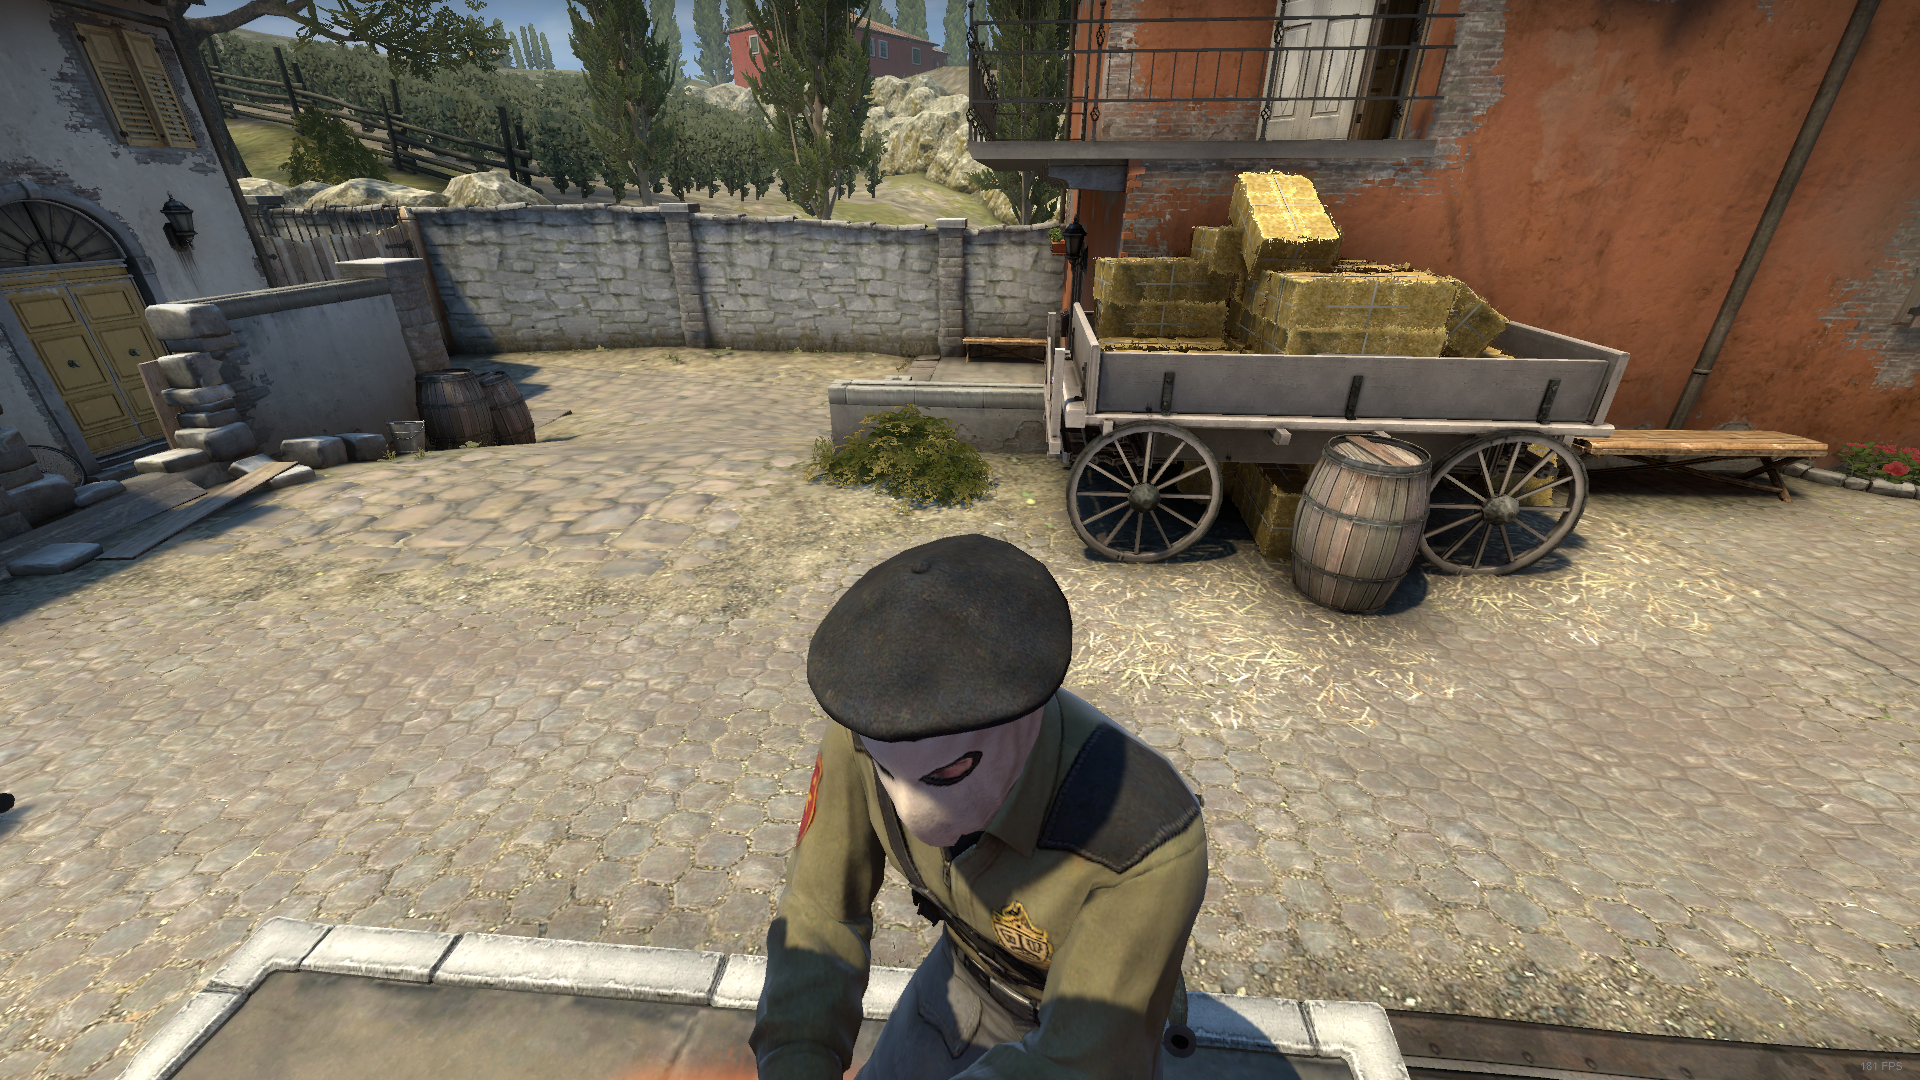t: (752, 535, 1211, 1080)
